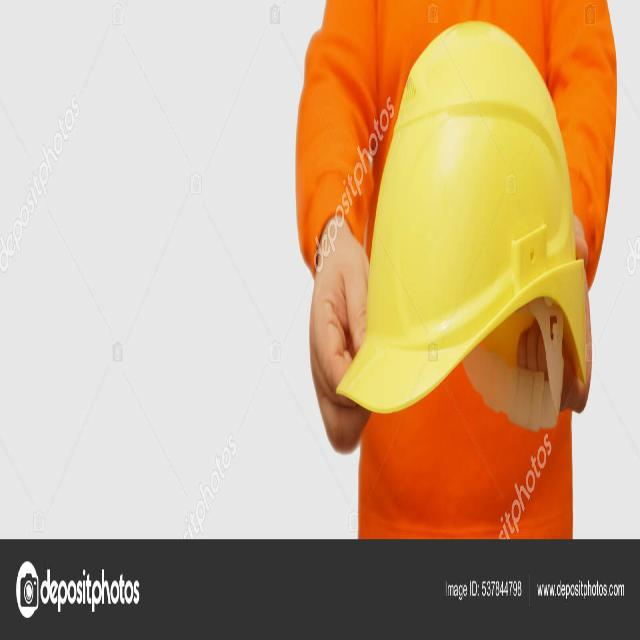helmet: (321, 22, 611, 446)
